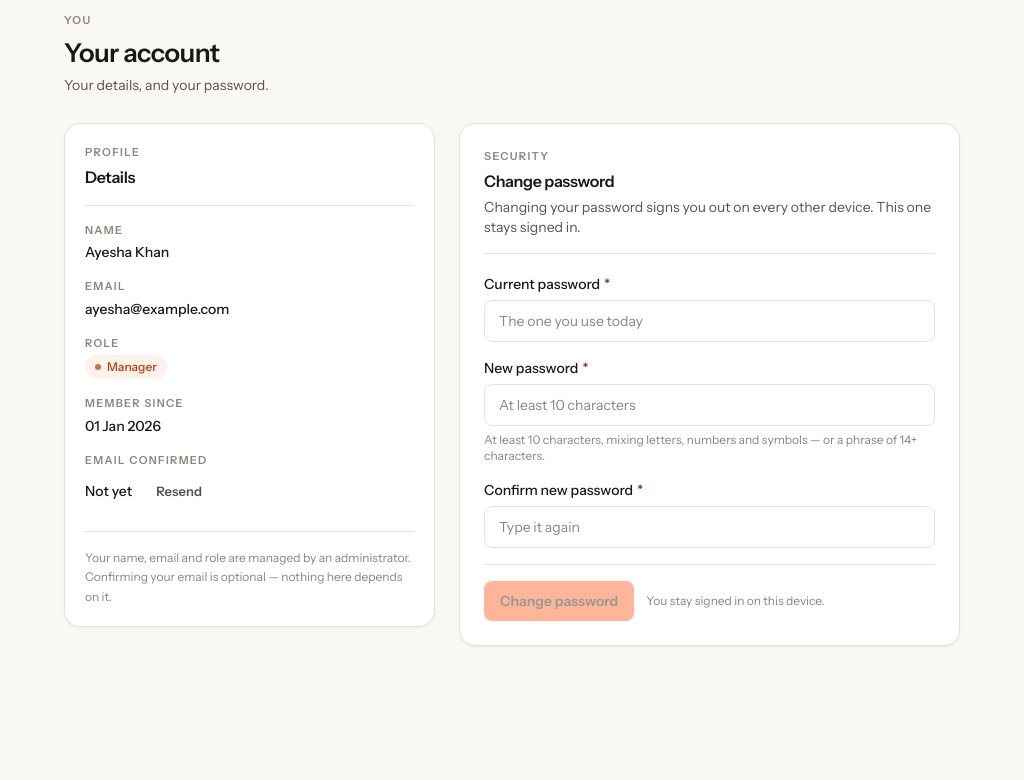
Scenario: Account › will not submit two new passwords that differ
This screenshot has width=1024, height=780.
Type "Karachi-Ledger-72" into the password field labelled "Current password*" at (710, 320), box x1=484 y1=300 x2=935 y2=342
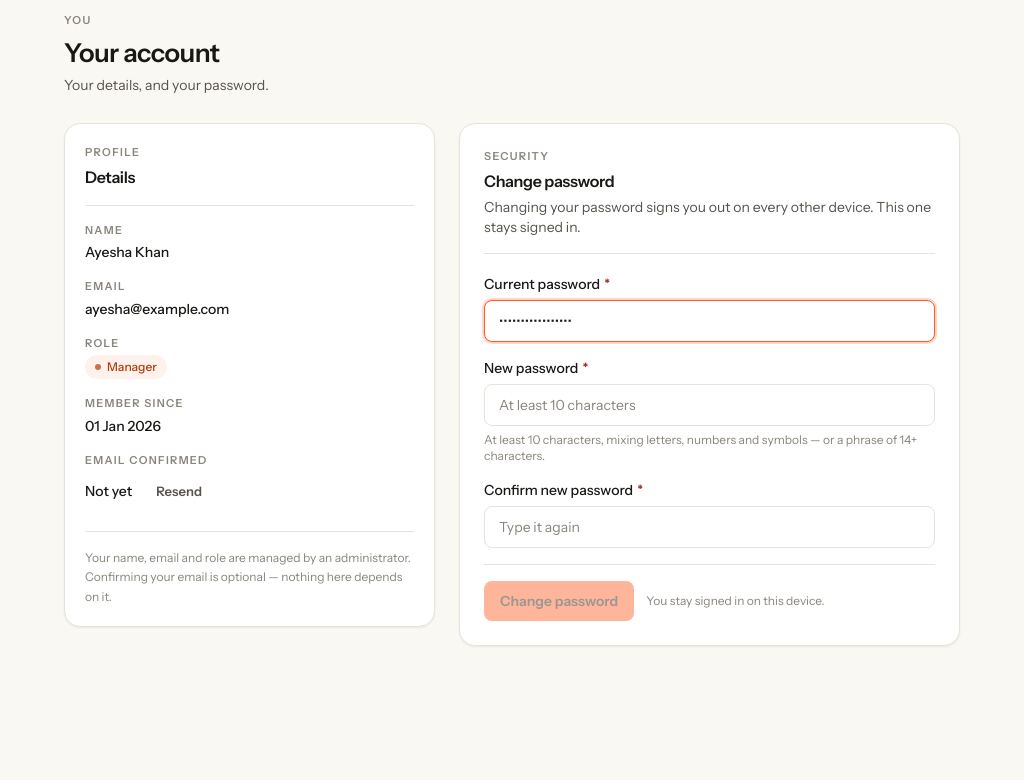
Type "Lahore-Inventory-91" into the password field labelled "New password*" at (710, 404), box x1=484 y1=384 x2=935 y2=426
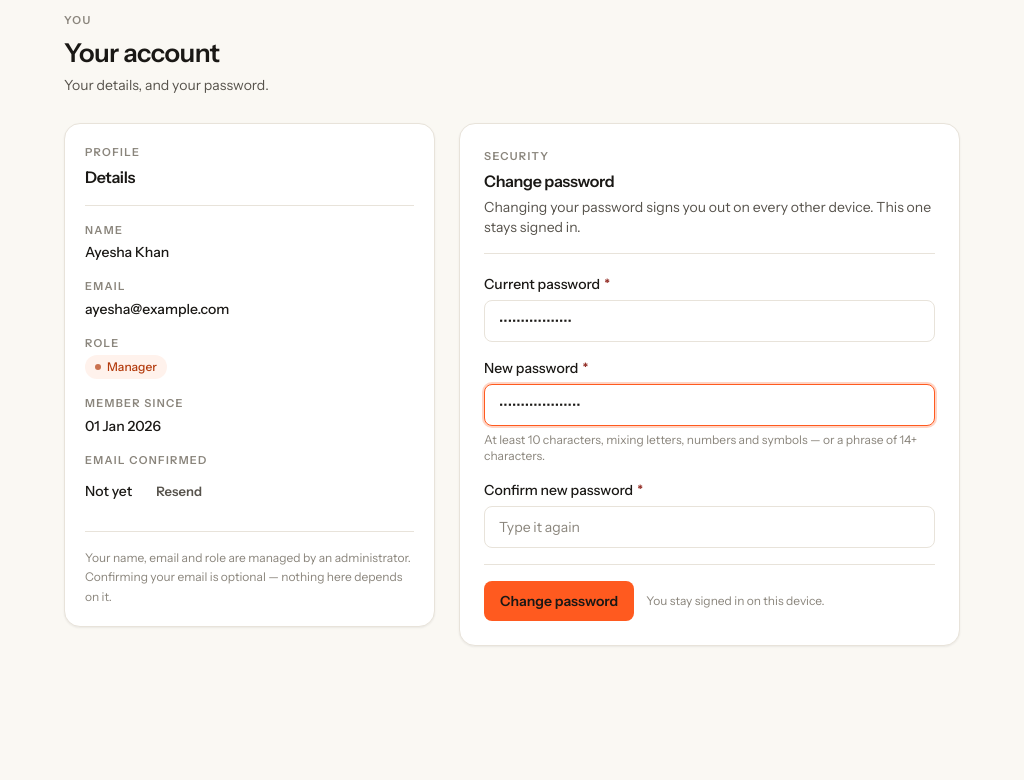
Type "Lahore-Inventory-92" into the password field labelled "Confirm new password*" at (710, 526), box x1=484 y1=506 x2=935 y2=548
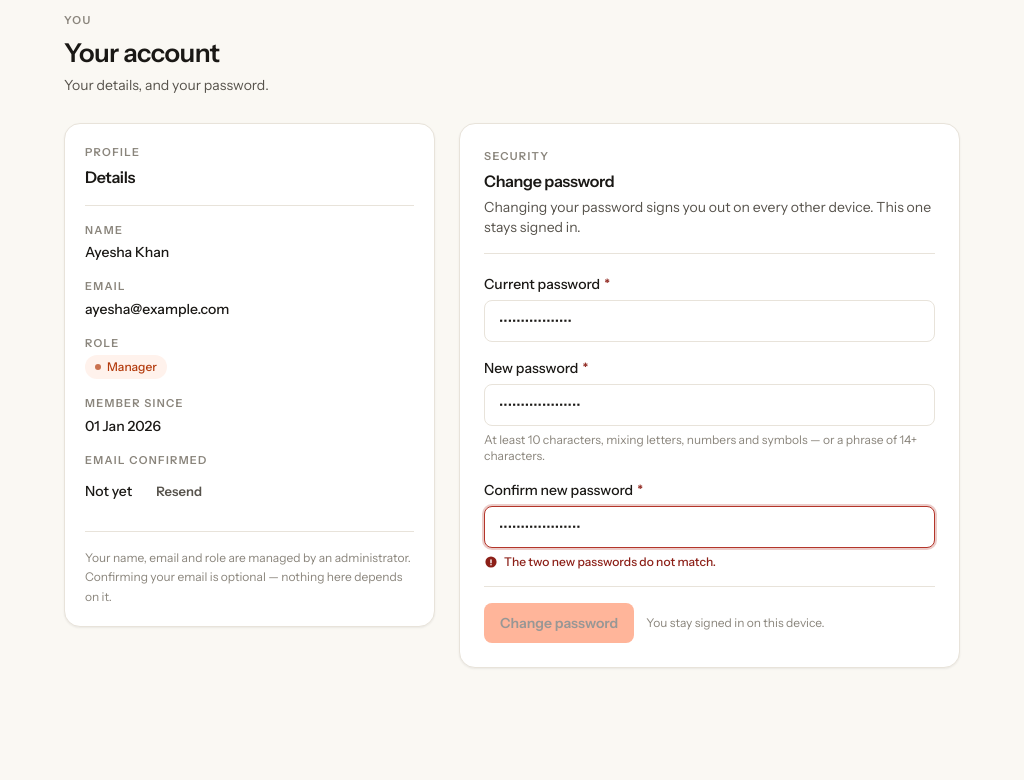
Check: the text "The two new passwords do not match." is shown, box x1=484 y1=554 x2=716 y2=568
Check: the button "Change password" is disabled, box x1=484 y1=602 x2=634 y2=642
